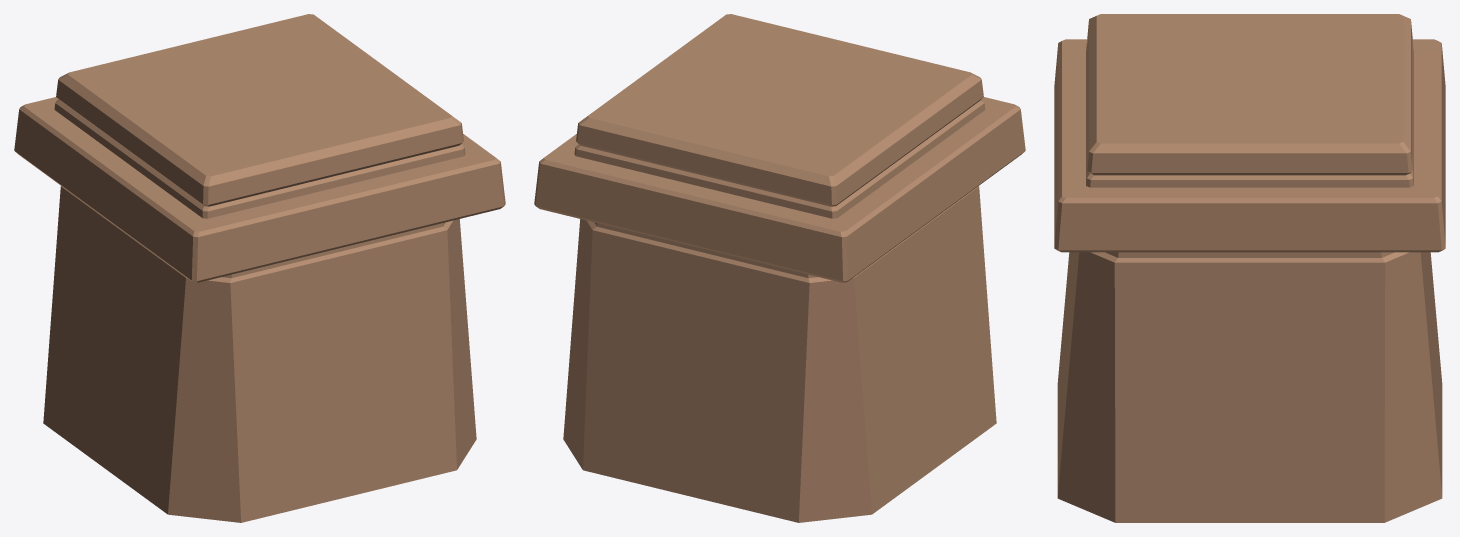
3 views of the same model, side by side, from view 1: azimuth 30°, elevation 25°; view 2: azimuth 150°, elevation 25°; view 3: azimuth 270°, elevation 25° (orthographic). The views are drawn at different scales.
Visible parts, largest first — view 1: structure01; view 2: structure01; view 3: structure01.
Part boxes in pixels (<box>): structure01: <box>14,14,505,522</box>; structure01: <box>534,14,1025,522</box>; structure01: <box>1054,14,1445,522</box>.
Size of the model in its own units: 293 by 300 by 293.
